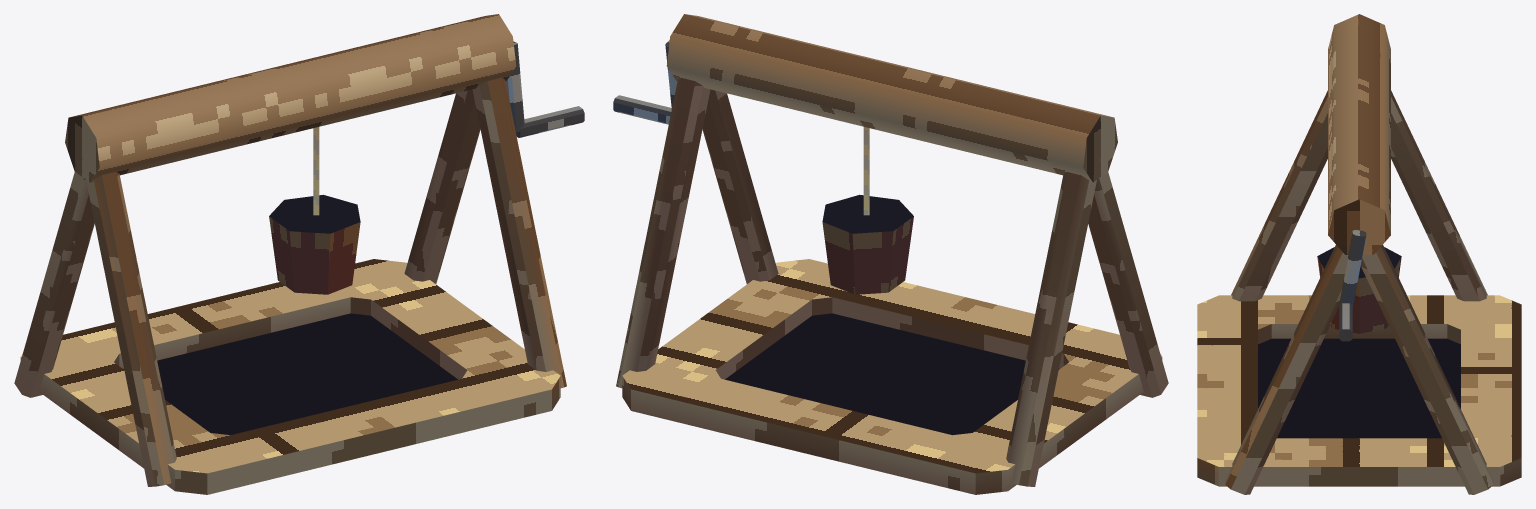
Rendered from wmine.windlass.glb.
3 renders of one model, left to right at view 1: azimuth 30°, elevation 25°; view 2: azimuth 150°, elevation 25°; view 3: azimuth 270°, elevation 25°, orthographic. The views are drawn at different scales.
Visible parts, largest first — view 1: kit_collar, kit_uprights, kit_drum, kit_card_hole, kit_bucket, kit_crank, kit_rope; view 2: kit_collar, kit_uprights, kit_drum, kit_card_hole, kit_bucket, kit_crank, kit_rope; view 3: kit_collar, kit_uprights, kit_card_hole, kit_drum, kit_bucket, kit_crank.
Boxes of the visible parts, x1,y1,x2,y2 form: kit_collar: [20, 259, 560, 494]; kit_uprights: [14, 77, 566, 486]; kit_drum: [65, 14, 516, 182]; kit_card_hole: [123, 313, 457, 434]; kit_bucket: [269, 194, 360, 294]; kit_crank: [505, 41, 584, 137]; kit_rope: [313, 127, 319, 215]; kit_collar: [622, 259, 1162, 494]; kit_uprights: [616, 77, 1168, 486]; kit_drum: [666, 14, 1117, 182]; kit_card_hole: [725, 313, 1059, 435]; kit_bucket: [822, 194, 913, 294]; kit_crank: [613, 40, 677, 124]; kit_rope: [863, 127, 869, 215]; kit_collar: [1197, 295, 1521, 486]; kit_uprights: [1225, 90, 1493, 494]; kit_card_hole: [1258, 338, 1460, 438]; kit_drum: [1328, 14, 1390, 254]; kit_bucket: [1317, 247, 1401, 333]; kit_crank: [1339, 230, 1366, 341].
Size of the model in its own units: 1.91 by 1.22 by 1.2.
Materials: 7 (7 with a texture image).
